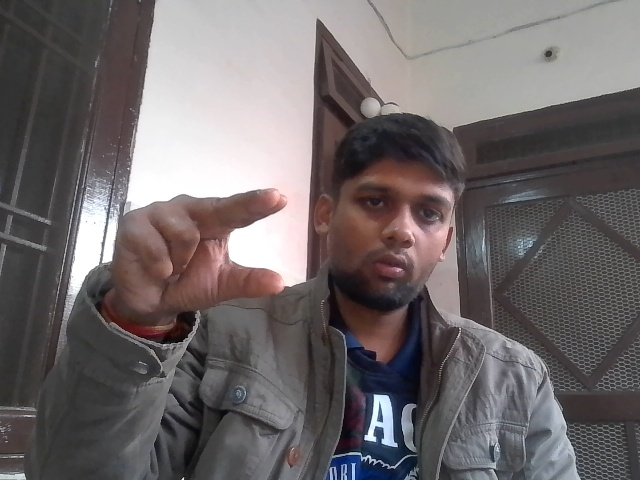No: (119, 187, 310, 307)
